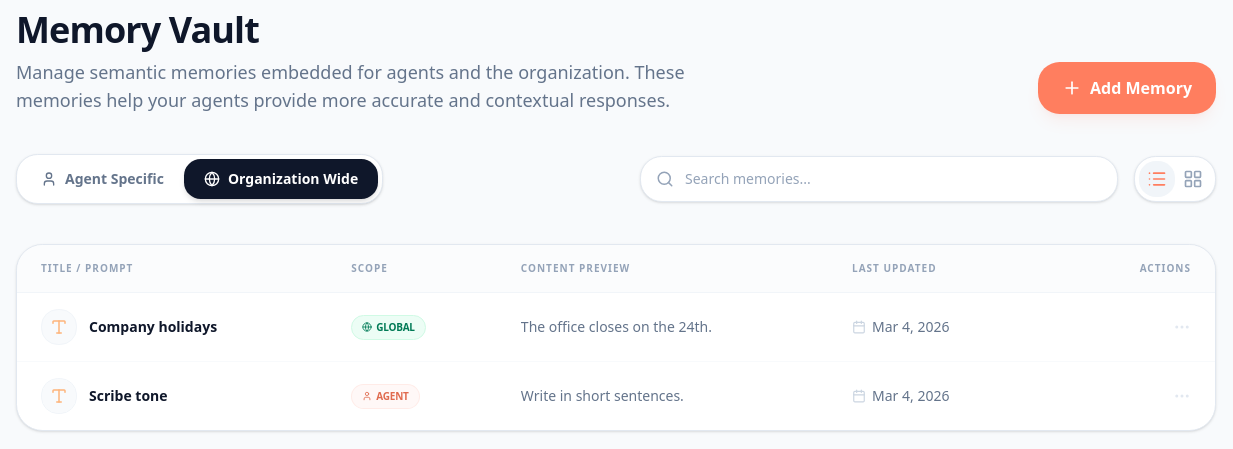
Test: the memory vault page › search › filters by title
The image size is (1233, 449).
Expected: the text "Company holidays" is shown, [89, 317, 217, 337]
Type "holidays" into the field with placeholder "Search memories...". click: (879, 179)
box: [640, 156, 1118, 202]
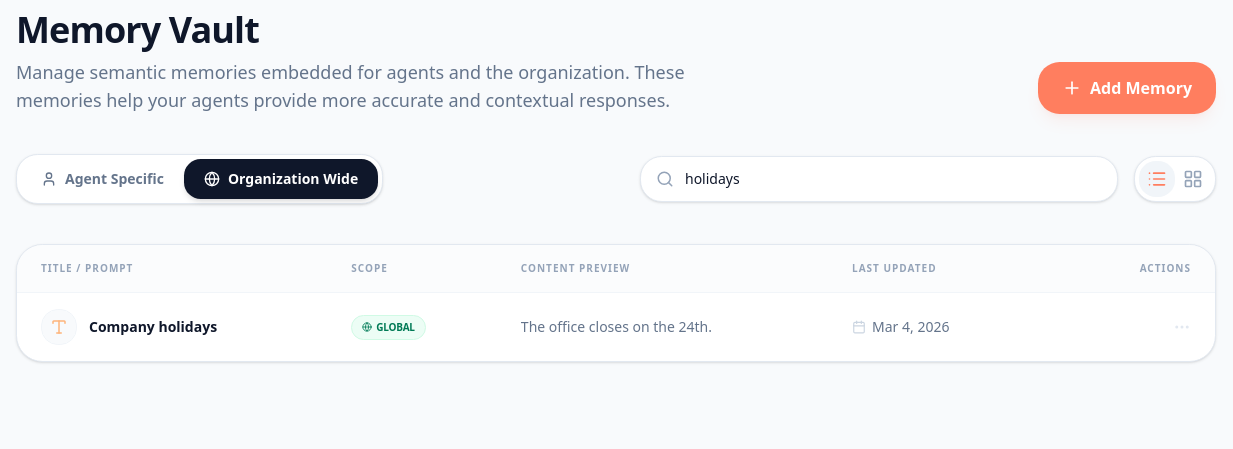
Expected: the text "Scribe tone" is gone
